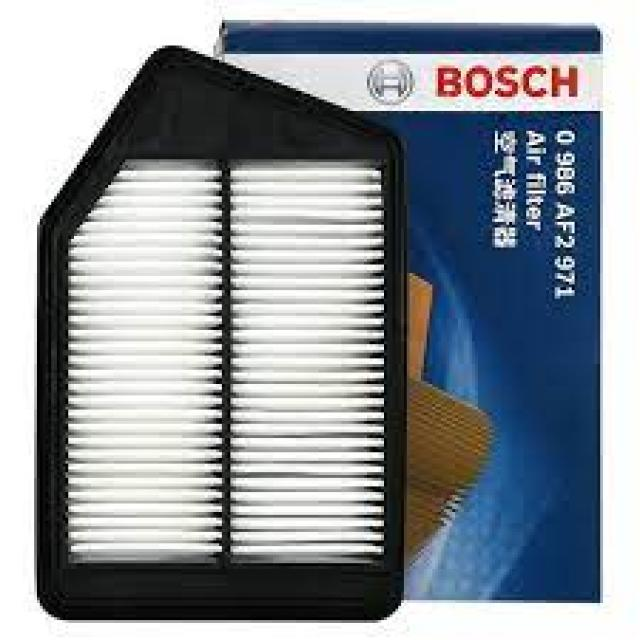air_filter: (34, 42, 410, 627)
